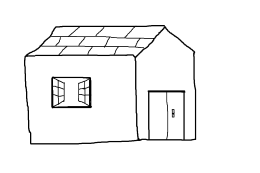door: (144, 88, 188, 145)
open_window: (47, 75, 96, 111)
roof: (20, 22, 197, 62)
wall: (23, 50, 141, 147)
